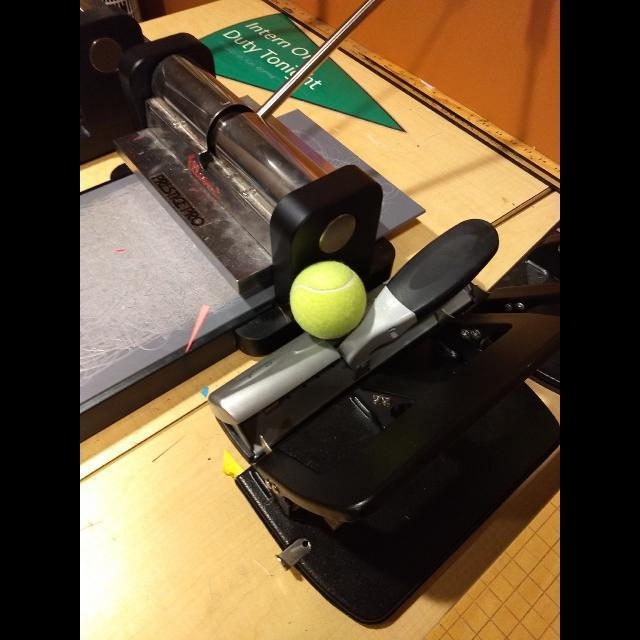tennis-ball: (290, 260, 368, 342)
